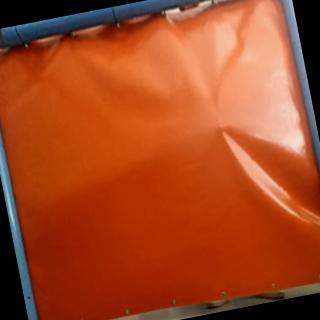Hit-hRxx: (209, 116, 230, 138)
